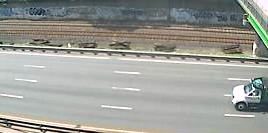car: (229, 75, 268, 113)
